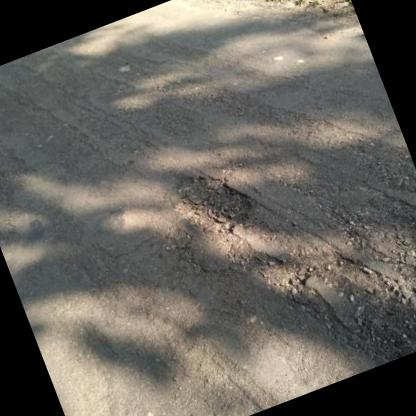pothole: (162, 154, 263, 251)
